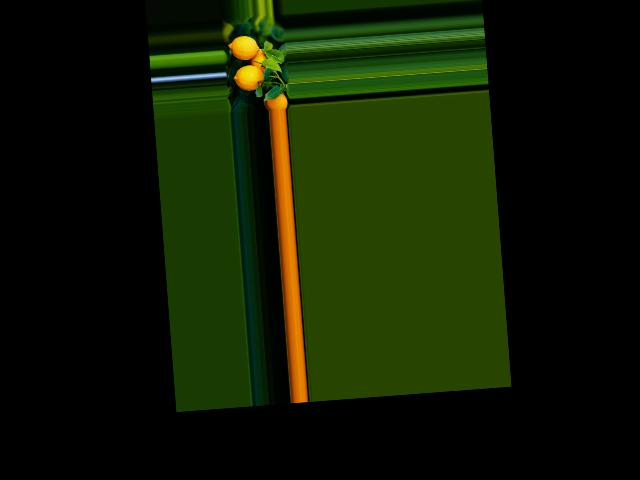lemon: (228, 34, 260, 60)
